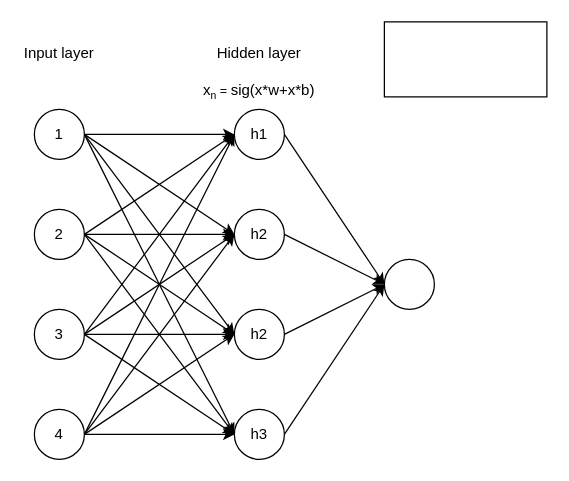
Some shapes in this 569 by 481 pixel diagram are drawn without their labels. The centre of each missing label's shape, as x and y in pixels:
out: the point at 408,283
x = output from neuron w = weights b = bias: the point at 465,59
